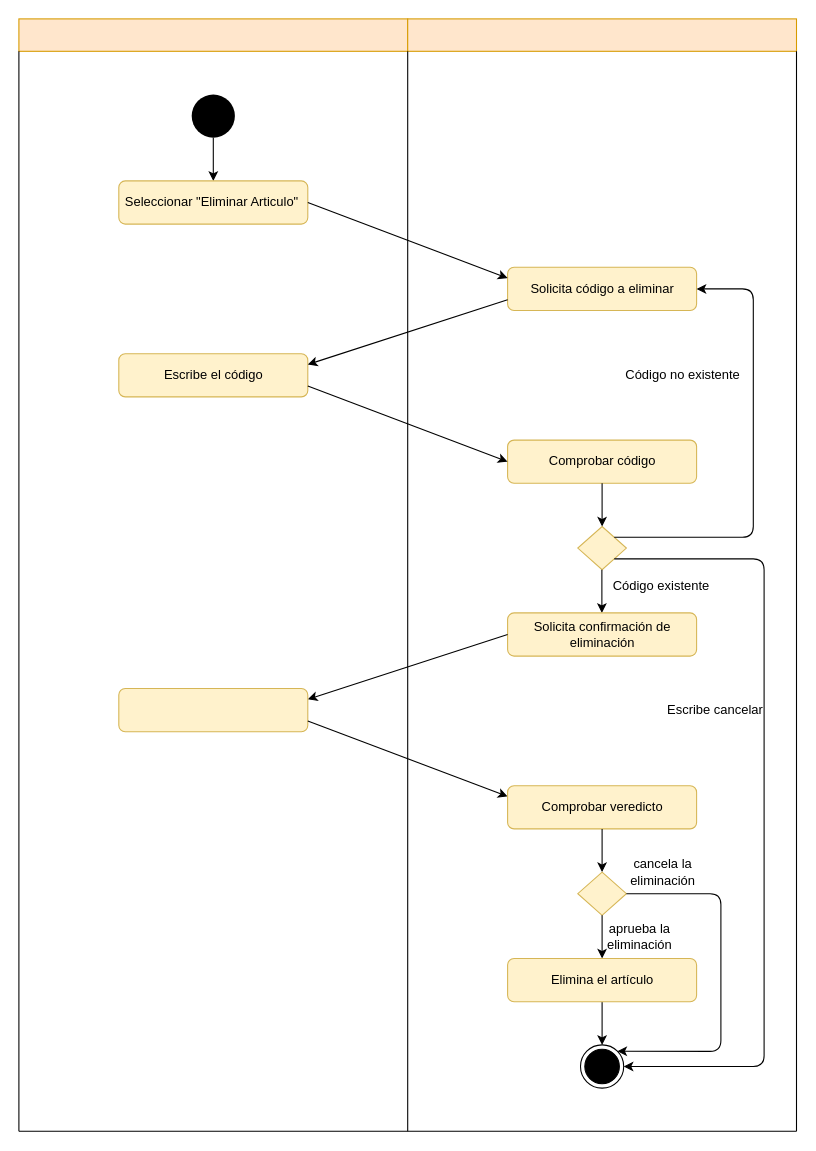
The diagram is 816 pixels wide and 1151 high, and some of its shapes have lost their labels. The shapes that lost their labels are listed below. From the top down, each one's centre as x and y in pixels, then its label:
the point at 213,34: Administrador
the point at 601,34: Sistema
the point at 213,709: Escribe el veredicto
